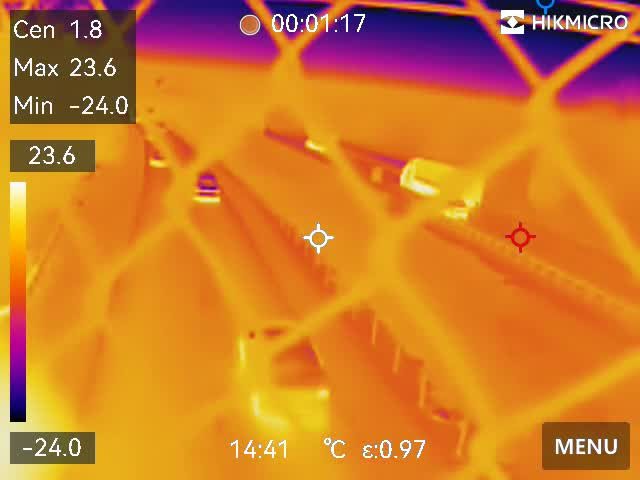heavyTruck: (396, 157, 481, 211)
vehicle: (235, 321, 335, 435), (185, 166, 224, 207), (142, 143, 170, 168)
